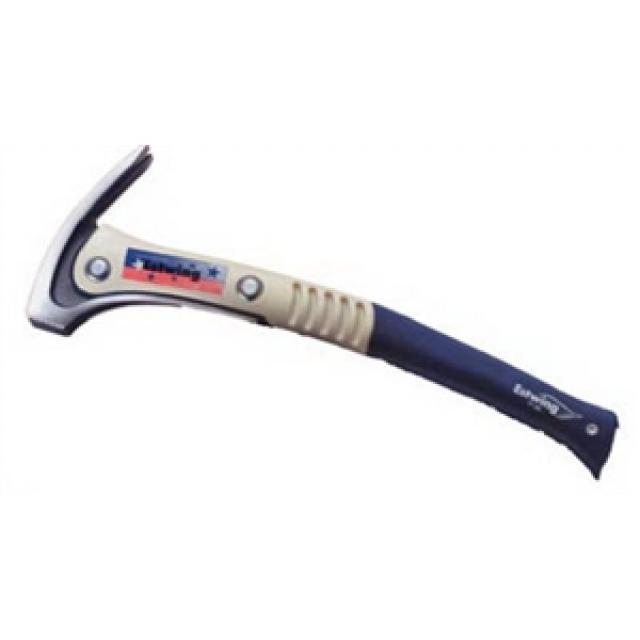hammer: (13, 140, 628, 494)
